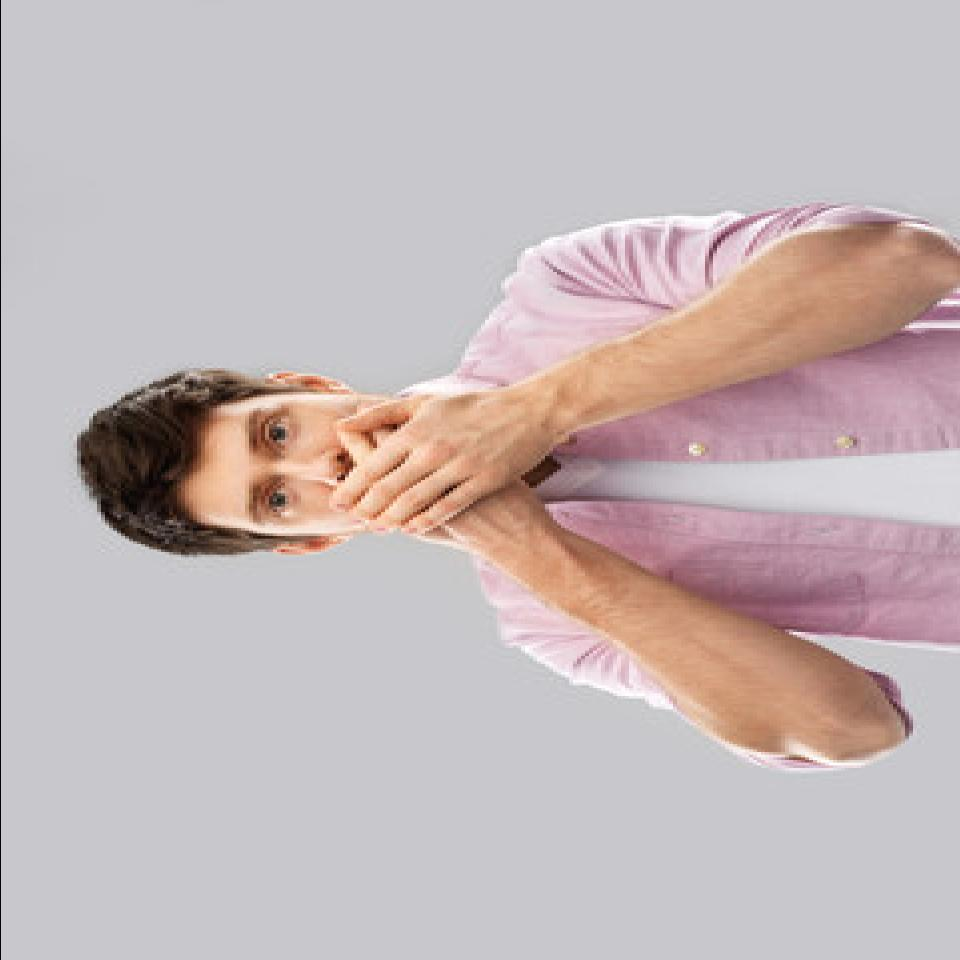Scared: (200, 392, 547, 536)
